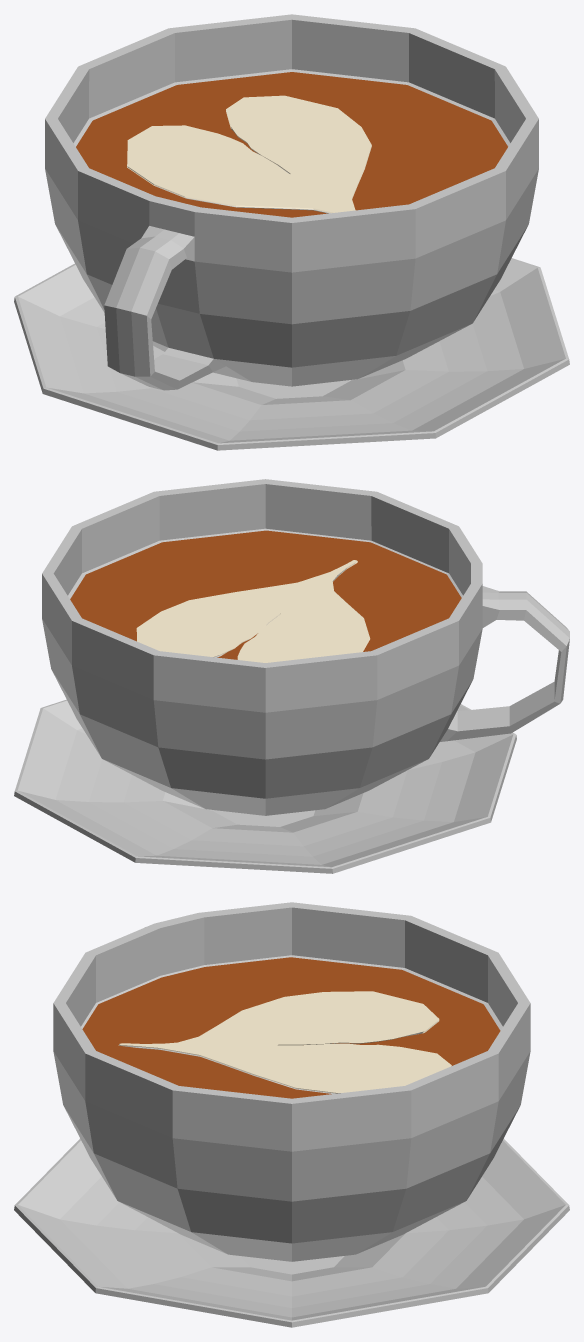
File: Latte.fbx
The picture shows the model from 3 angles, top to bottom: view 1: azimuth 30°, elevation 25°; view 2: azimuth 150°, elevation 25°; view 3: azimuth 270°, elevation 25°; orthographic projection. The views are drawn at different scales.
Parts seen in each view (by area): view 1: Latte, Plate; view 2: Latte, Plate; view 3: Latte, Plate.
Boxes of the visible parts, box(x1,y1,x2,y2) form: Latte: box(45, 14, 538, 390); Plate: box(14, 258, 569, 450); Latte: box(42, 479, 569, 815); Plate: box(14, 699, 516, 873); Latte: box(53, 902, 530, 1261); Plate: box(14, 1138, 569, 1327).
Size of the model in its own units: 365 by 178 by 357.
